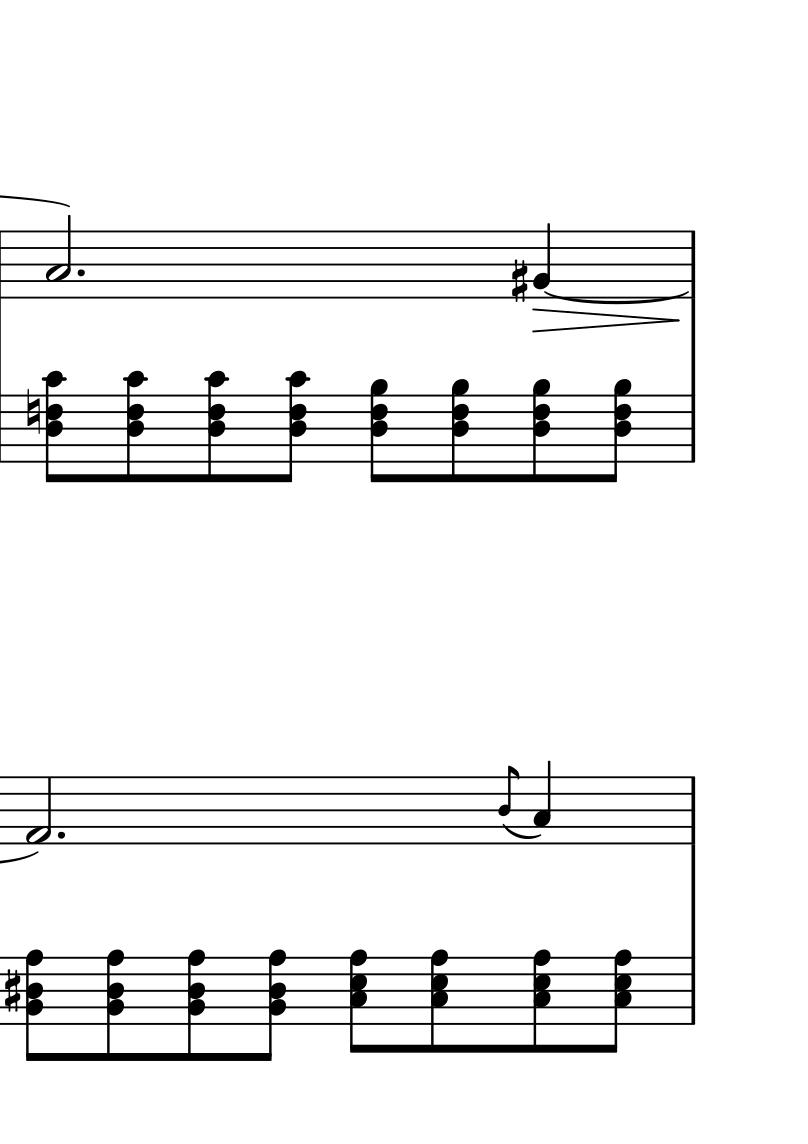2_1: (25, 774, 55, 847)
2_3: (46, 213, 75, 302)
4_2: (534, 220, 554, 303)
4_3: (532, 760, 557, 848)
8_th: (275, 366, 311, 483), (39, 368, 74, 485), (121, 368, 150, 486), (603, 375, 634, 483), (203, 368, 231, 482), (367, 376, 395, 485), (425, 944, 453, 1045), (529, 376, 553, 485), (528, 943, 554, 1041), (450, 377, 473, 483), (345, 947, 369, 1026), (610, 946, 634, 1025)
Appoggiature: (497, 764, 518, 845)
Diminuendo_hairpin: (532, 307, 682, 333)
Natural: (24, 388, 42, 435)
Sharp: (1, 965, 24, 1015), (510, 258, 530, 304)
Single_barline: (682, 777, 703, 844), (683, 232, 702, 299), (683, 957, 702, 1024), (682, 397, 701, 462)
Slur: (544, 290, 690, 305), (502, 823, 542, 840)
dot: (55, 828, 67, 842), (75, 266, 87, 280)
